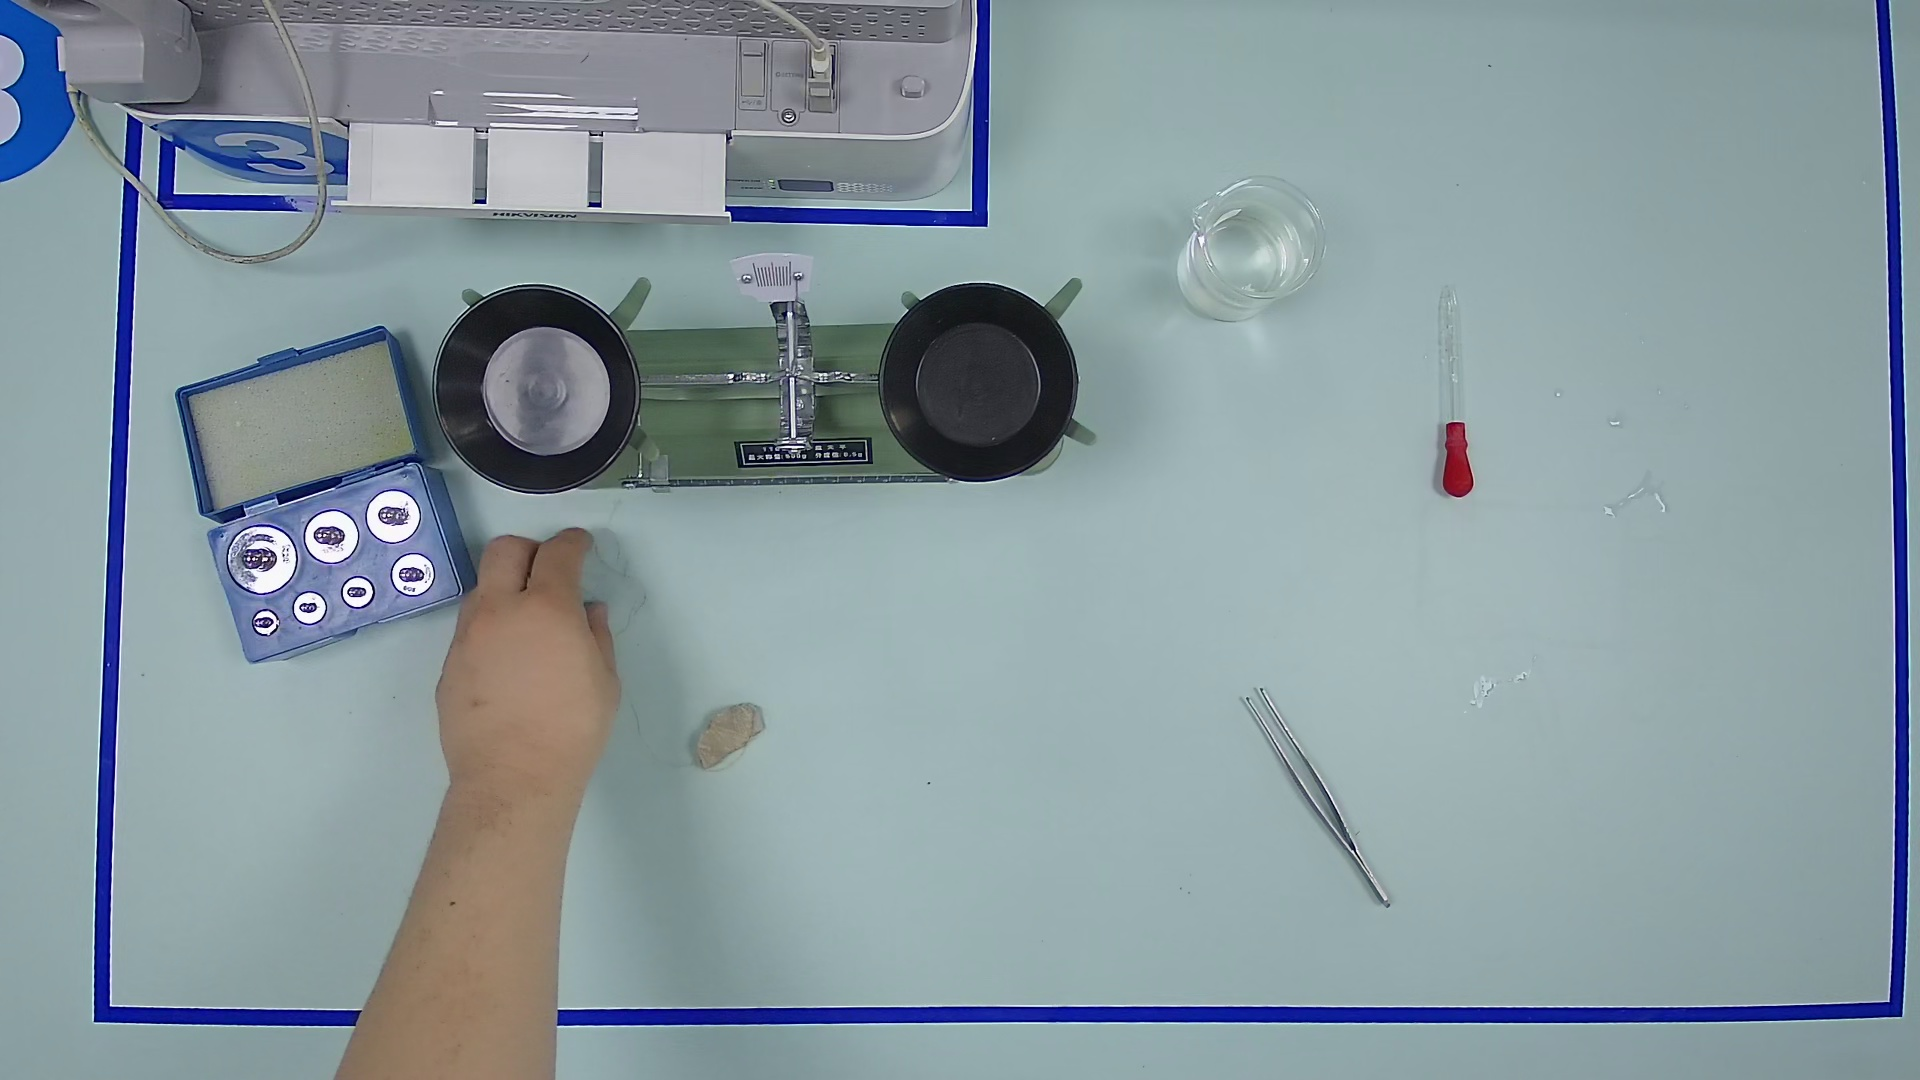bei: (1167, 165, 1332, 328)
diguan: (1414, 270, 1495, 504)
diguantou: (1431, 419, 1481, 495)
fama: (224, 524, 298, 596), (363, 489, 422, 545), (303, 509, 361, 564), (389, 551, 436, 597), (291, 589, 328, 626), (340, 576, 376, 609), (251, 608, 280, 638)
gan: (611, 444, 945, 516)
hand: (425, 535, 694, 832)
he: (179, 462, 477, 692)
niezi: (1226, 673, 1420, 938)
pointer: (733, 249, 810, 301)
shi: (684, 690, 777, 781)
tuo: (414, 266, 662, 514), (858, 261, 1102, 506)
you: (642, 450, 679, 500)
